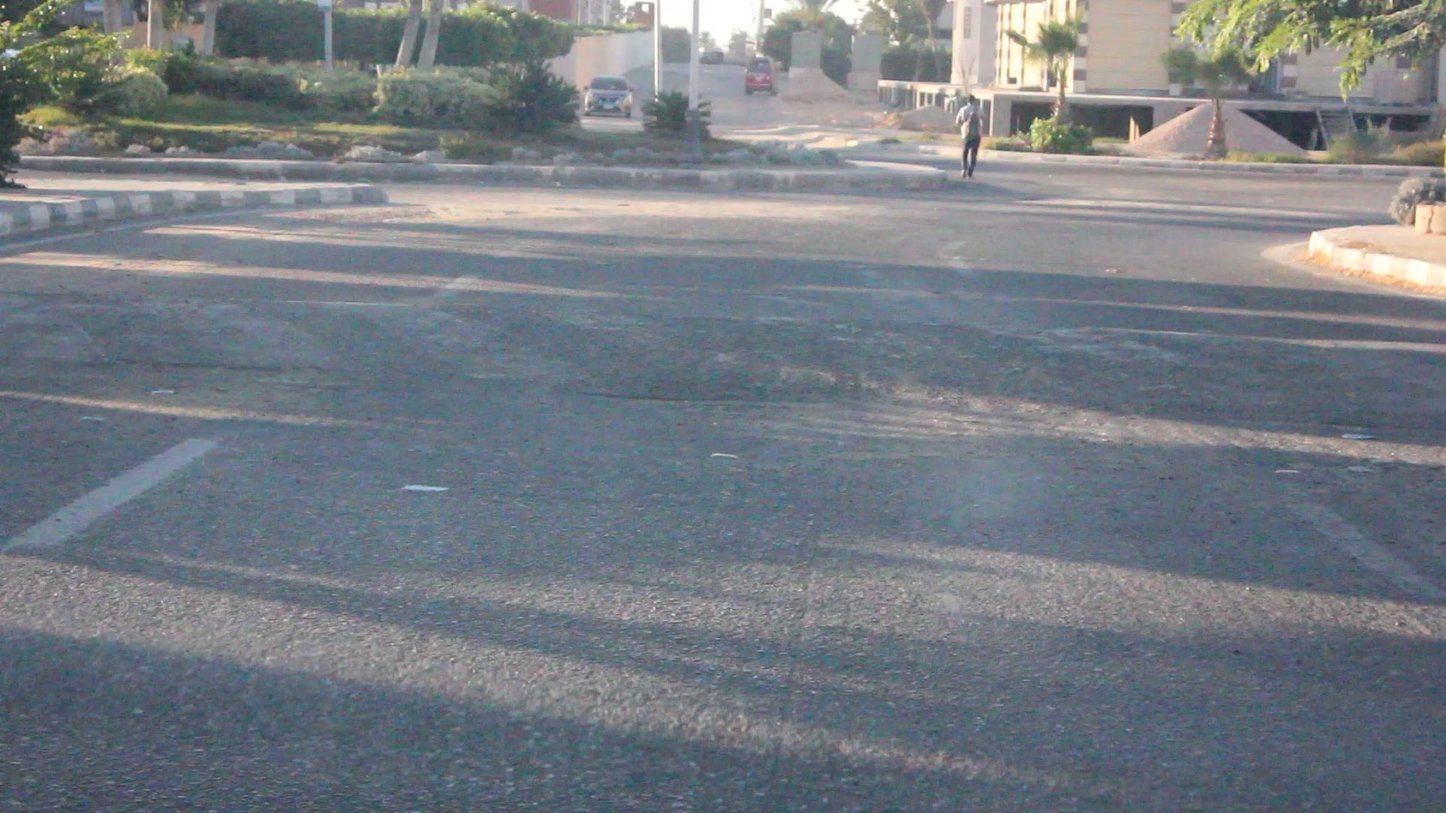Bump: (0, 288, 1445, 431)
